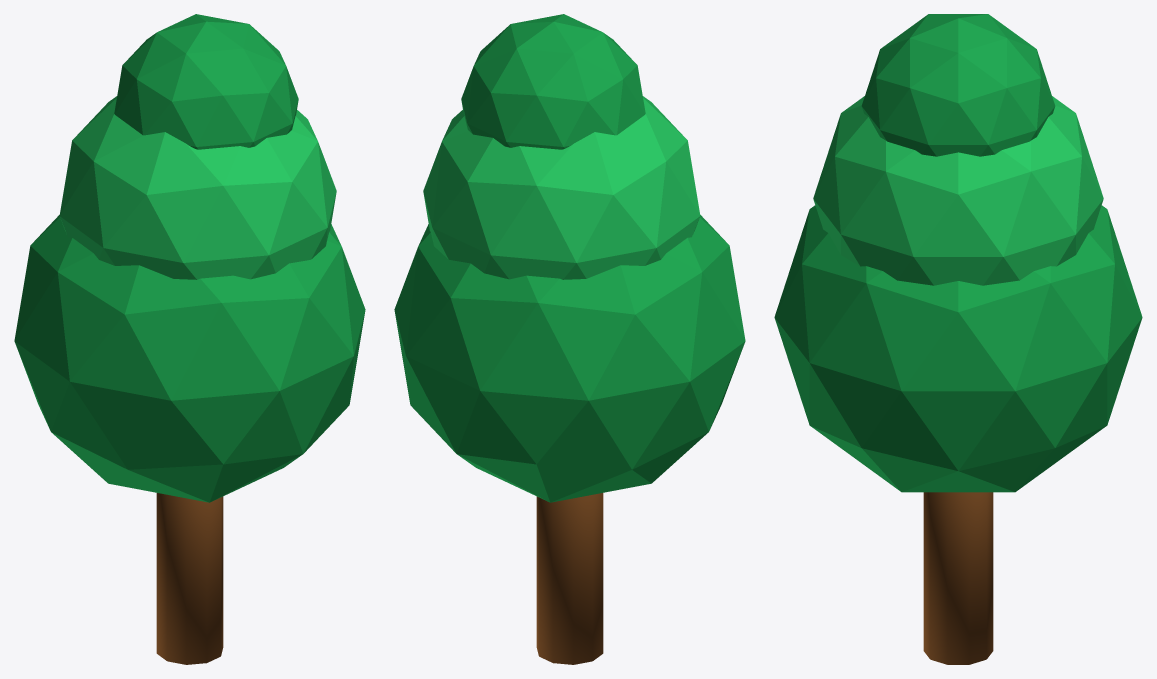
File: tree.glb
The picture shows the model from 3 angles, left to right: view 1: azimuth 30°, elevation 25°; view 2: azimuth 150°, elevation 25°; view 3: azimuth 270°, elevation 25°; orthographic projection. The views are drawn at different scales.
Parts seen in each view (by area): view 1: Crown0, Crown1, Crown2, Trunk; view 2: Crown0, Crown1, Crown2, Trunk; view 3: Crown0, Crown1, Crown2, Trunk.
Part boxes in pixels (x1=…): Crown0: x1=14, y1=215, x2=365, y2=502; Crown1: x1=59, y1=96, x2=336, y2=279; Crown2: x1=114, y1=14, x2=298, y2=149; Trunk: x1=156, y1=493, x2=223, y2=664; Crown0: x1=394, y1=215, x2=745, y2=502; Crown1: x1=423, y1=96, x2=700, y2=279; Crown2: x1=461, y1=14, x2=645, y2=149; Trunk: x1=536, y1=493, x2=603, y2=664; Crown0: x1=774, y1=205, x2=1142, y2=492; Crown1: x1=813, y1=96, x2=1103, y2=285; Crown2: x1=861, y1=14, x2=1055, y2=156; Trunk: x1=923, y1=492, x2=993, y2=664.
Size of the model in its own units: 1.81 by 3.65 by 1.9.
